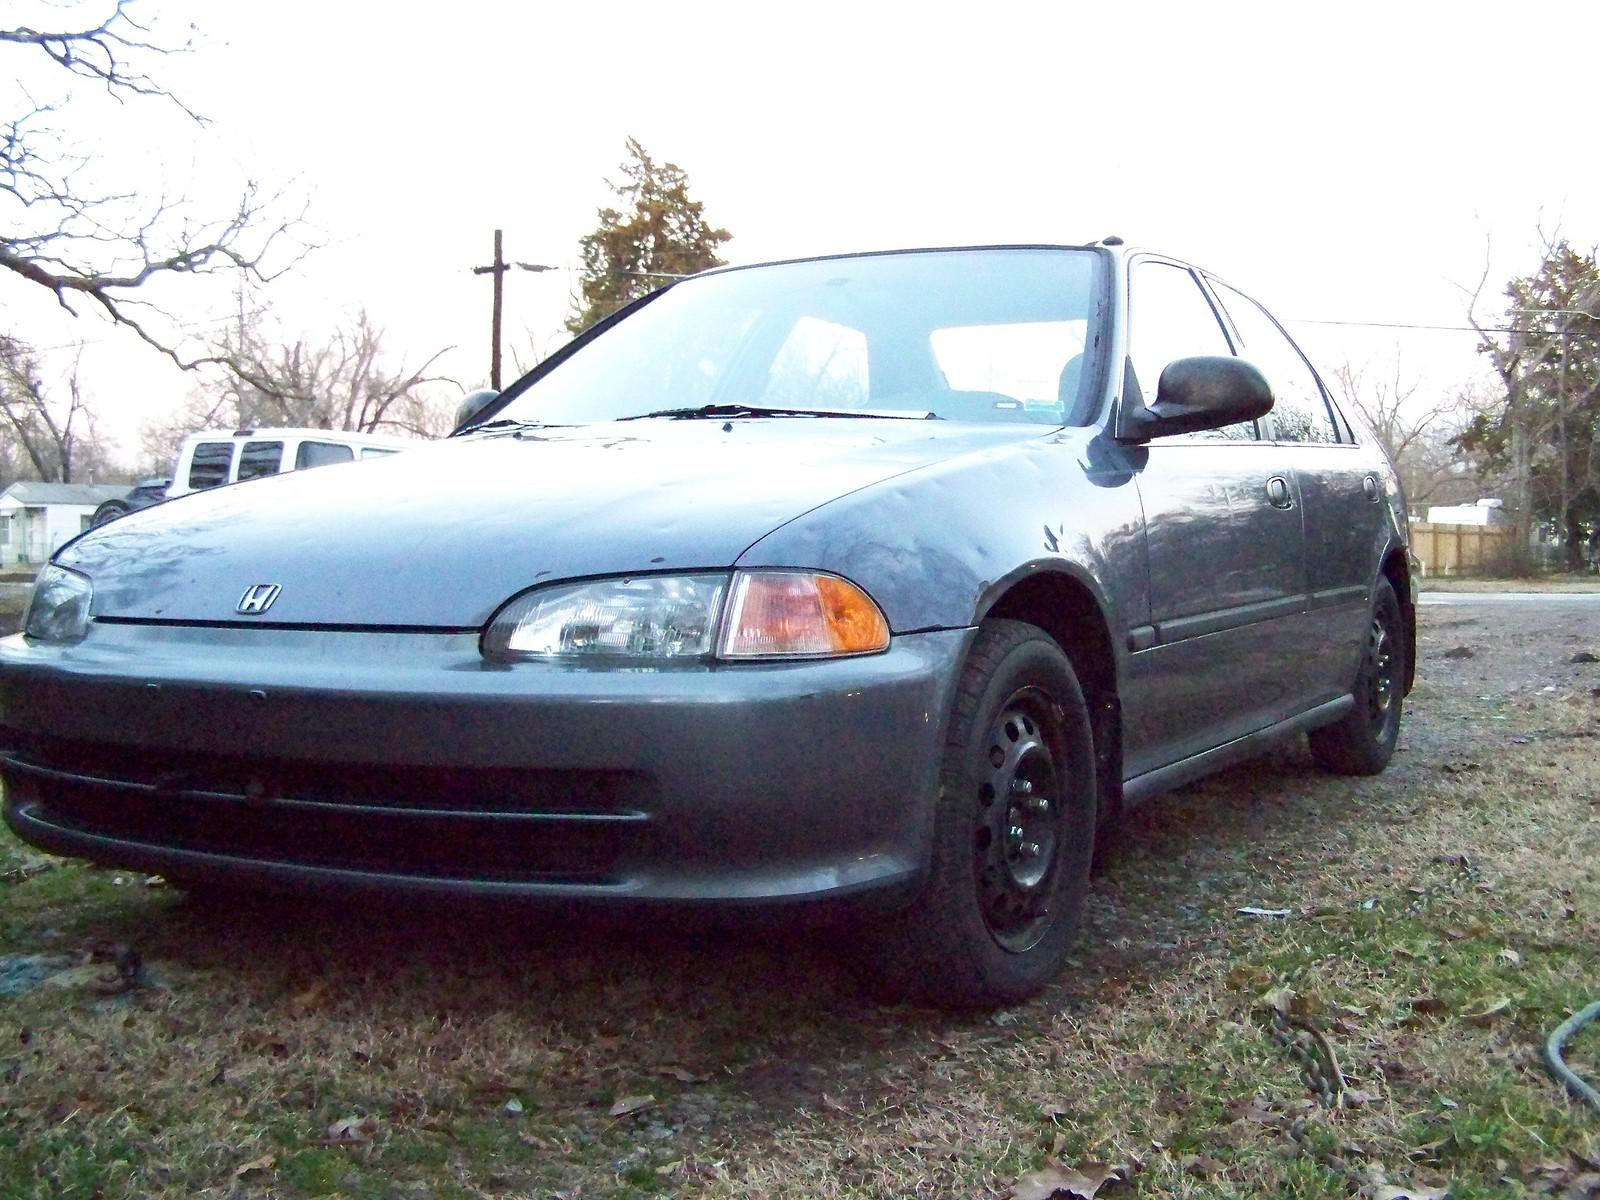bonnet-dent: (285, 393, 1049, 645)
